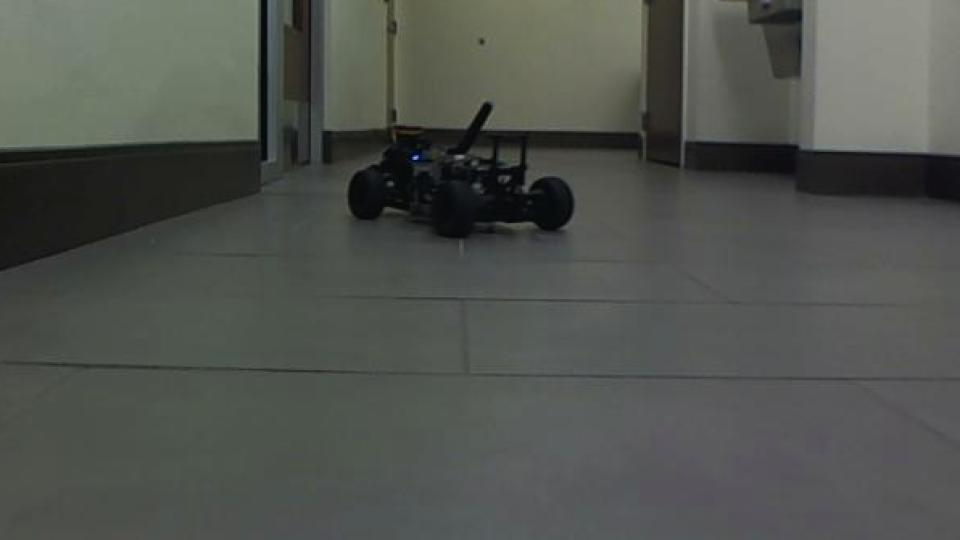car: (343, 99, 577, 241)
